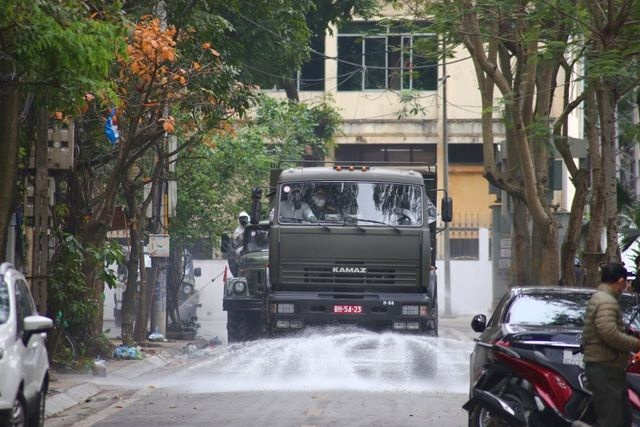plate: (558, 346, 589, 370), (328, 304, 360, 314)
